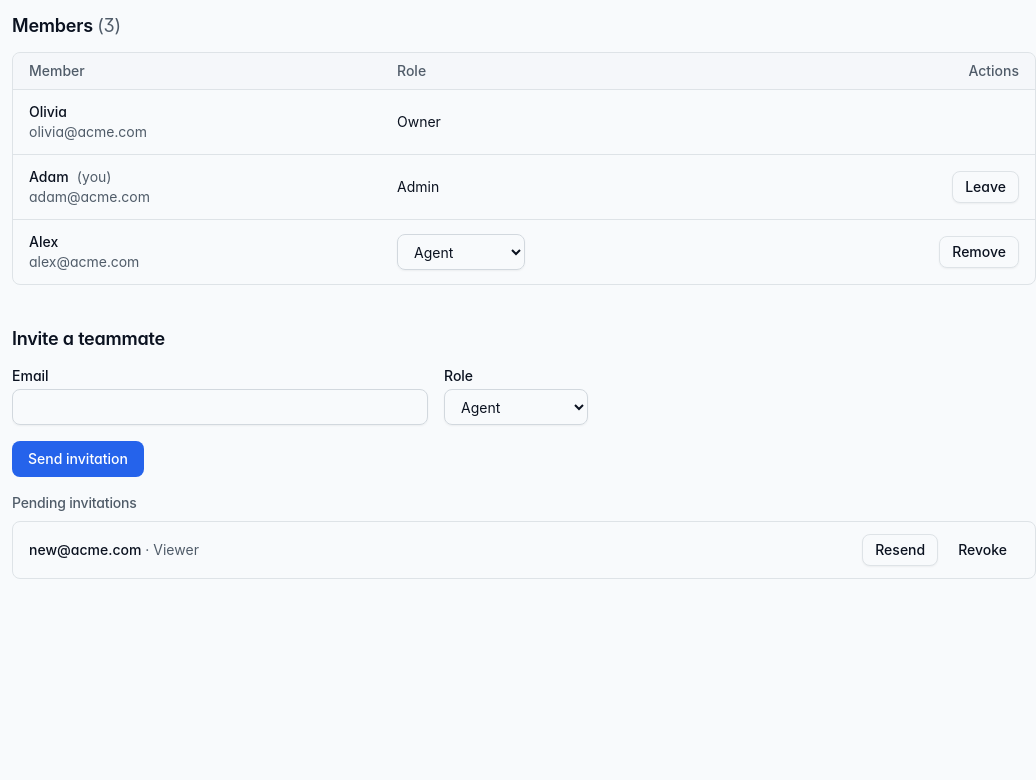
it: MembersPanel actions › surfaces a server refusal and restores the previous role
The width and height of the screenshot is (1036, 780).
Expected: the text "Alex" is shown, left=29, top=232, right=58, bottom=252
Select "Admin" in the dropdown named "role for alex": (461, 252) left=397, top=234, right=525, bottom=270
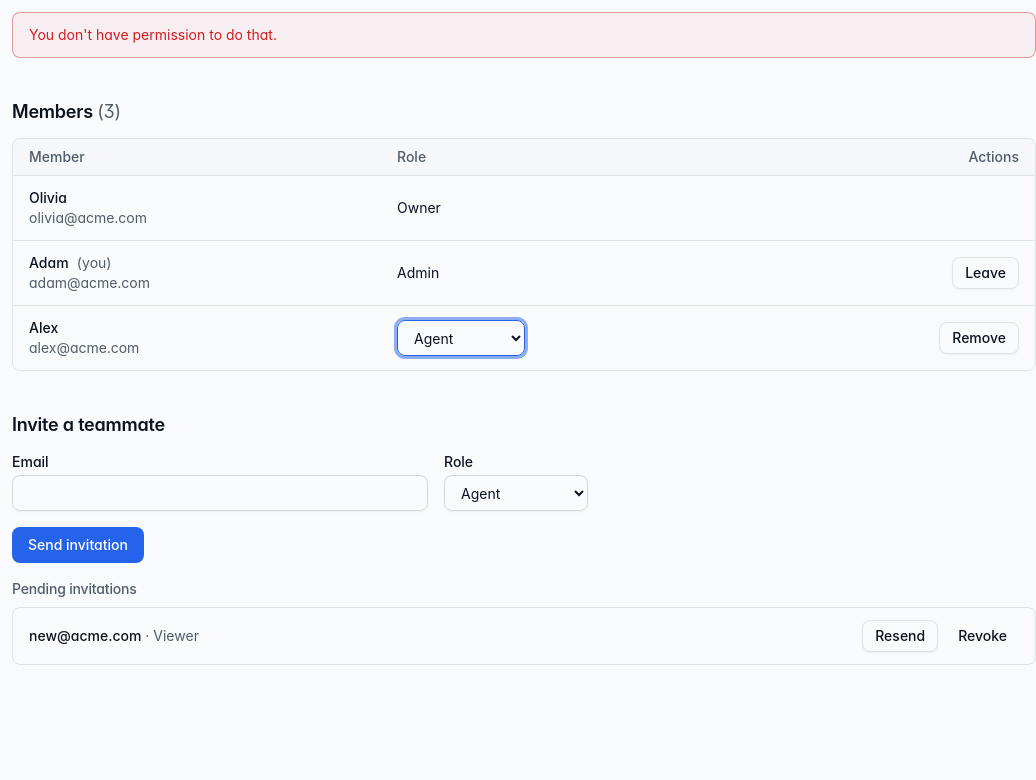
Expected: the message shows "don't have permission", left=29, top=26, right=277, bottom=43
